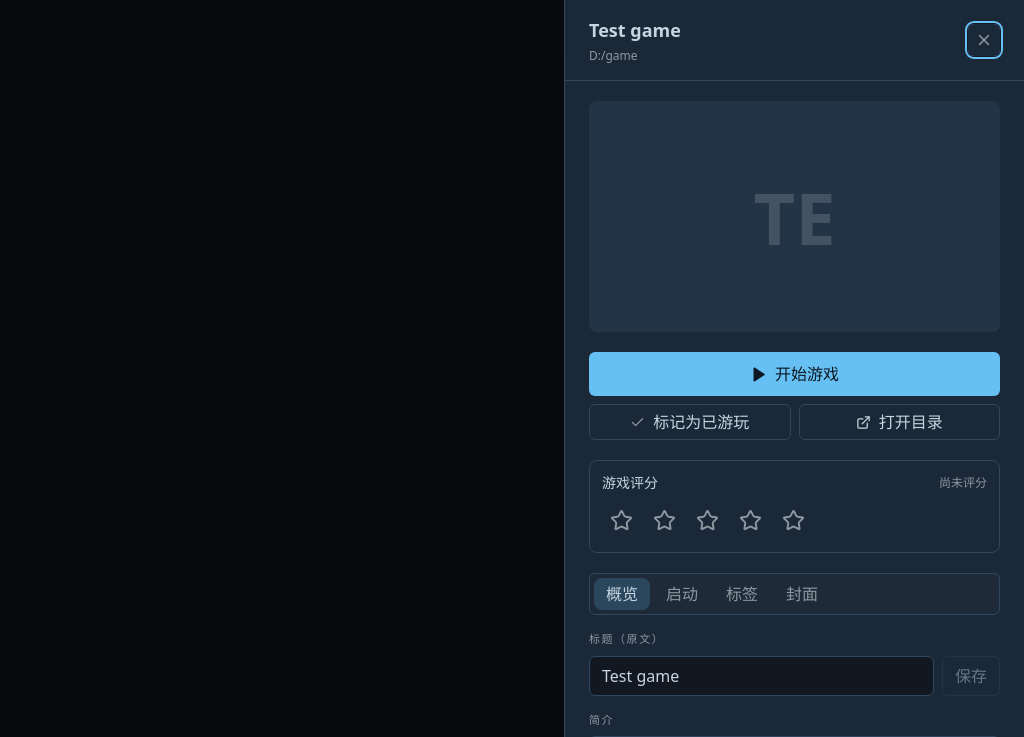
Test: updates played status and game stars independently while preserving favorite
The image size is (1024, 737).
Click the button "标记为已游玩" at {"x": 690, "y": 422}, box [589,404,790,440]
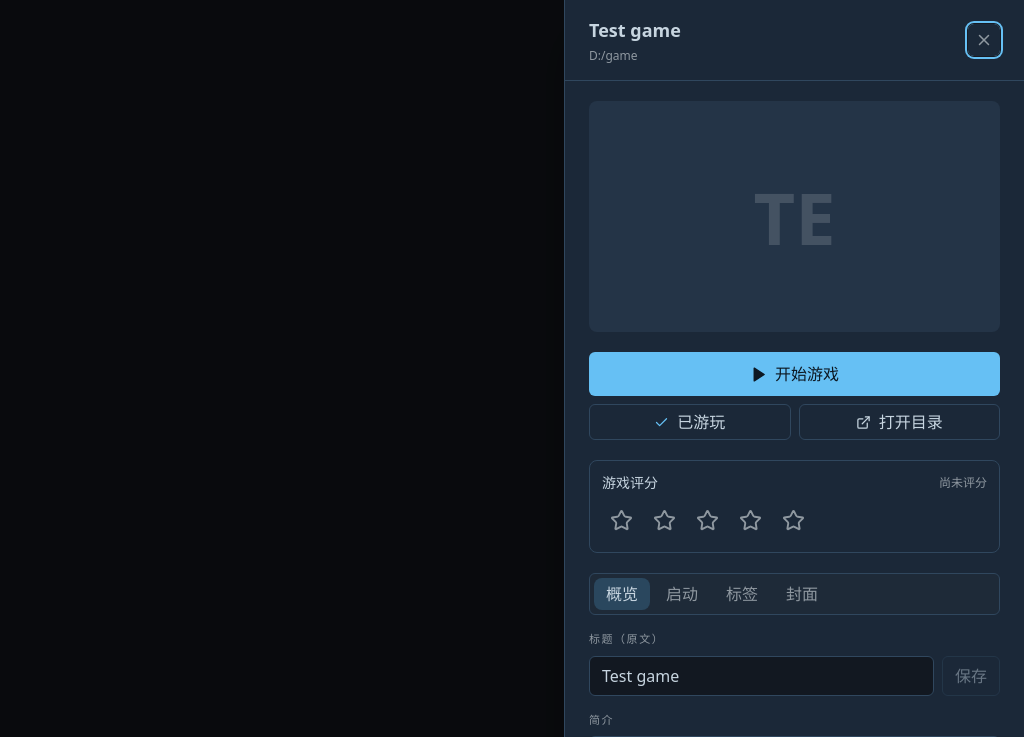
Now the button "已游玩" is pressed, box [589,404,790,440]
Click the button named "评为 5 星" at {"x": 794, "y": 521}, box [774,501,813,540]
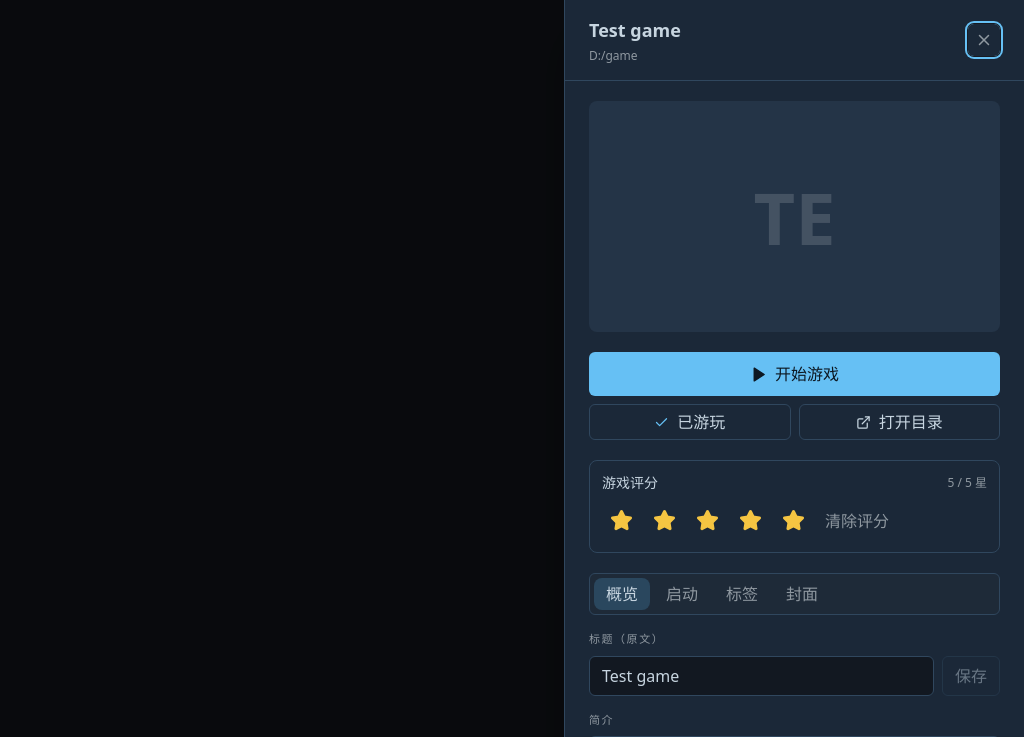
Now the button named "评为 5 星" is pressed, box [774,501,813,540]
Click the button "清除评分" at {"x": 857, "y": 521}, box [817,505,897,537]
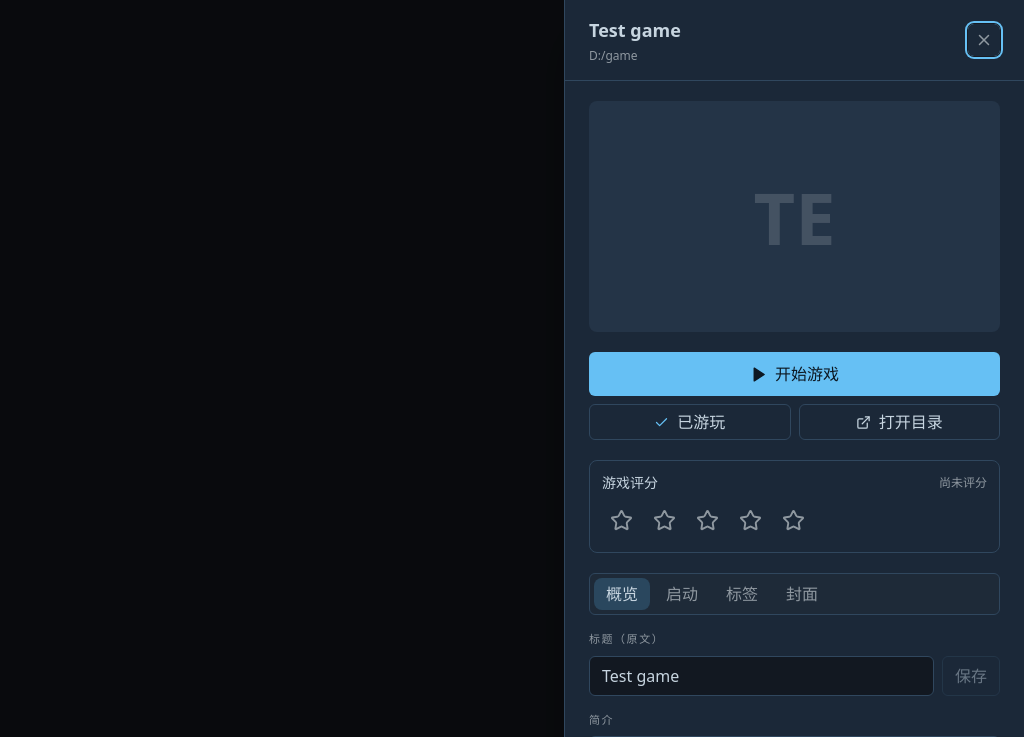
Now the text "尚未评分" is shown, box [939,475,987,491]
